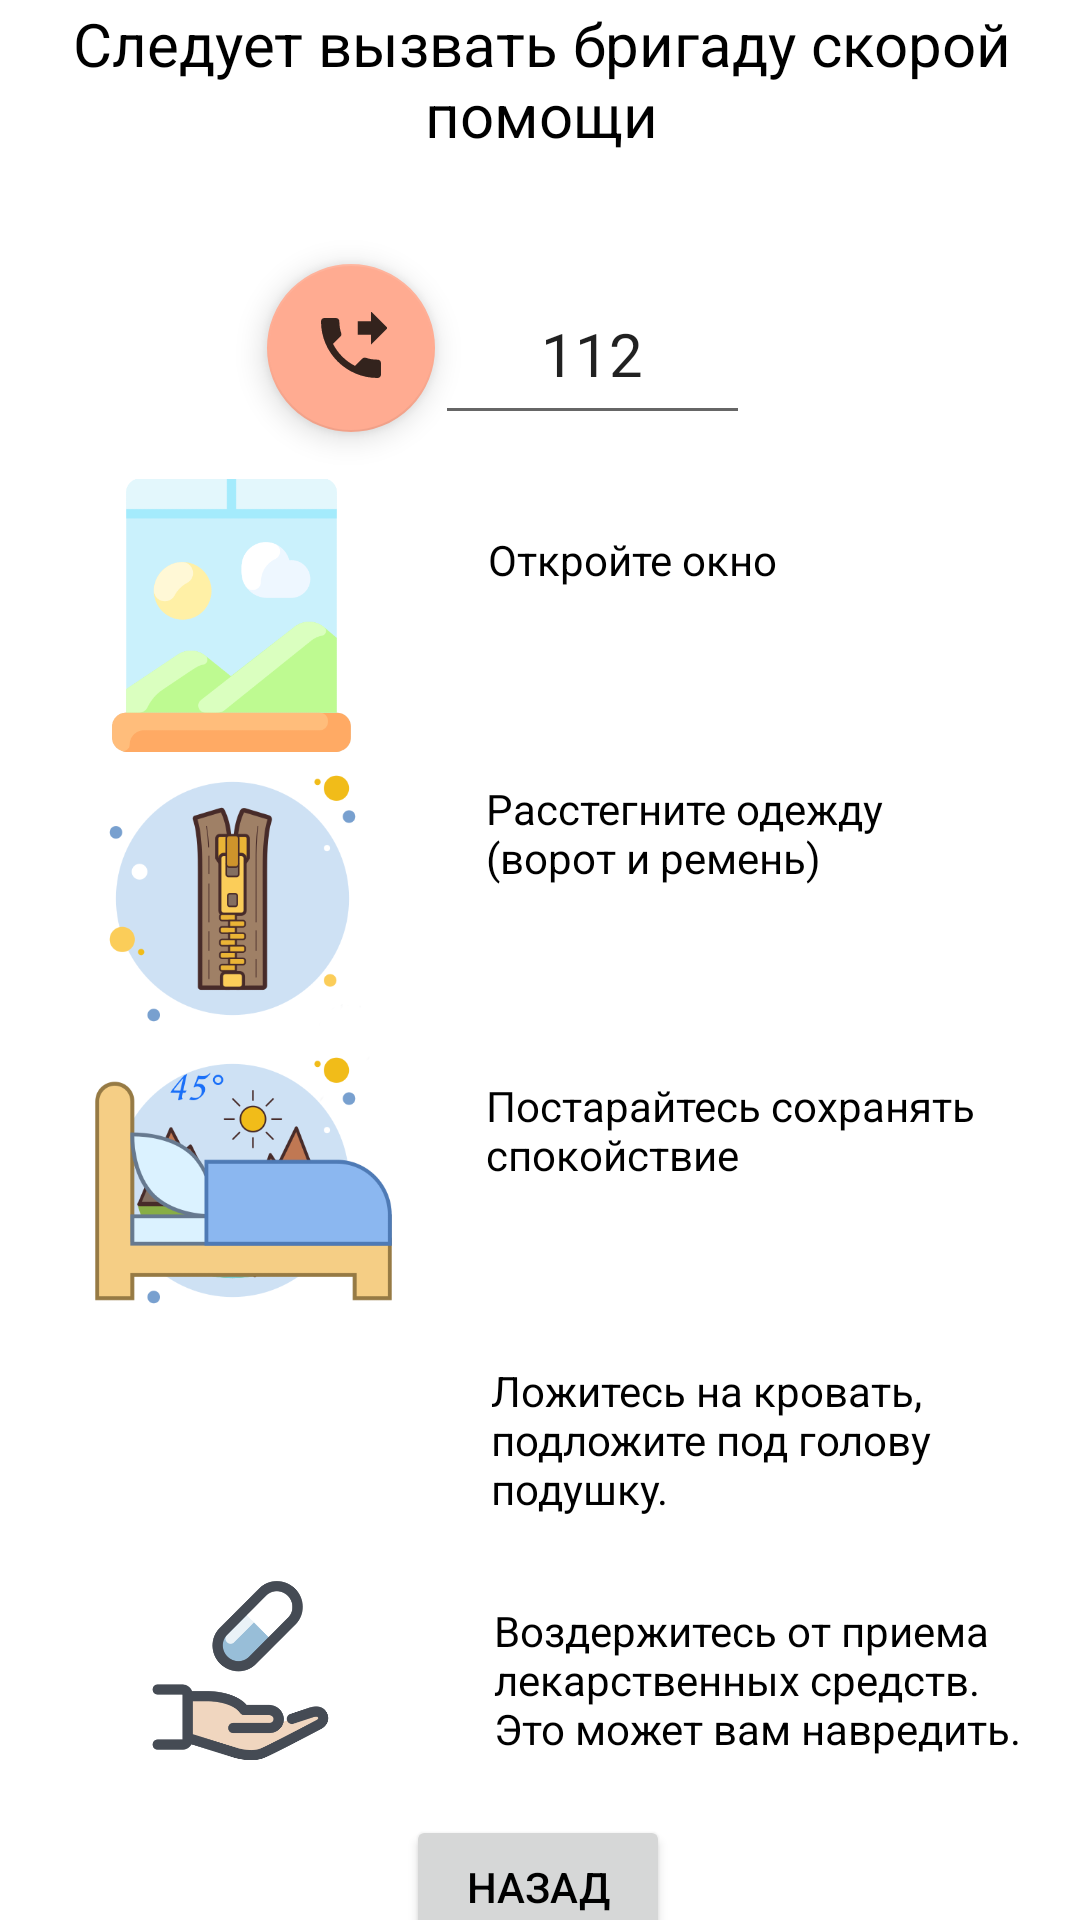

Icons on this 1080px×1920px Android screen, each with its box as (x1, y1, x2, y2):
call: (267, 264, 435, 432)
pill: (152, 1581, 329, 1760)
window: (112, 479, 351, 752)
zipper: (109, 775, 356, 1083)
